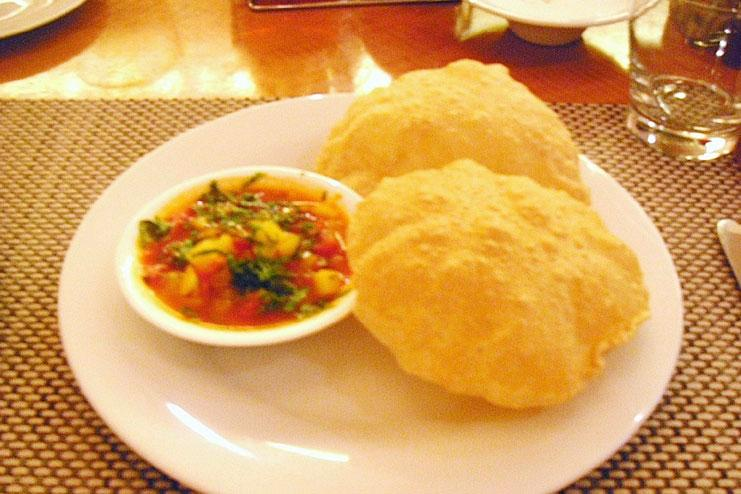puri: (358, 59, 648, 431)
